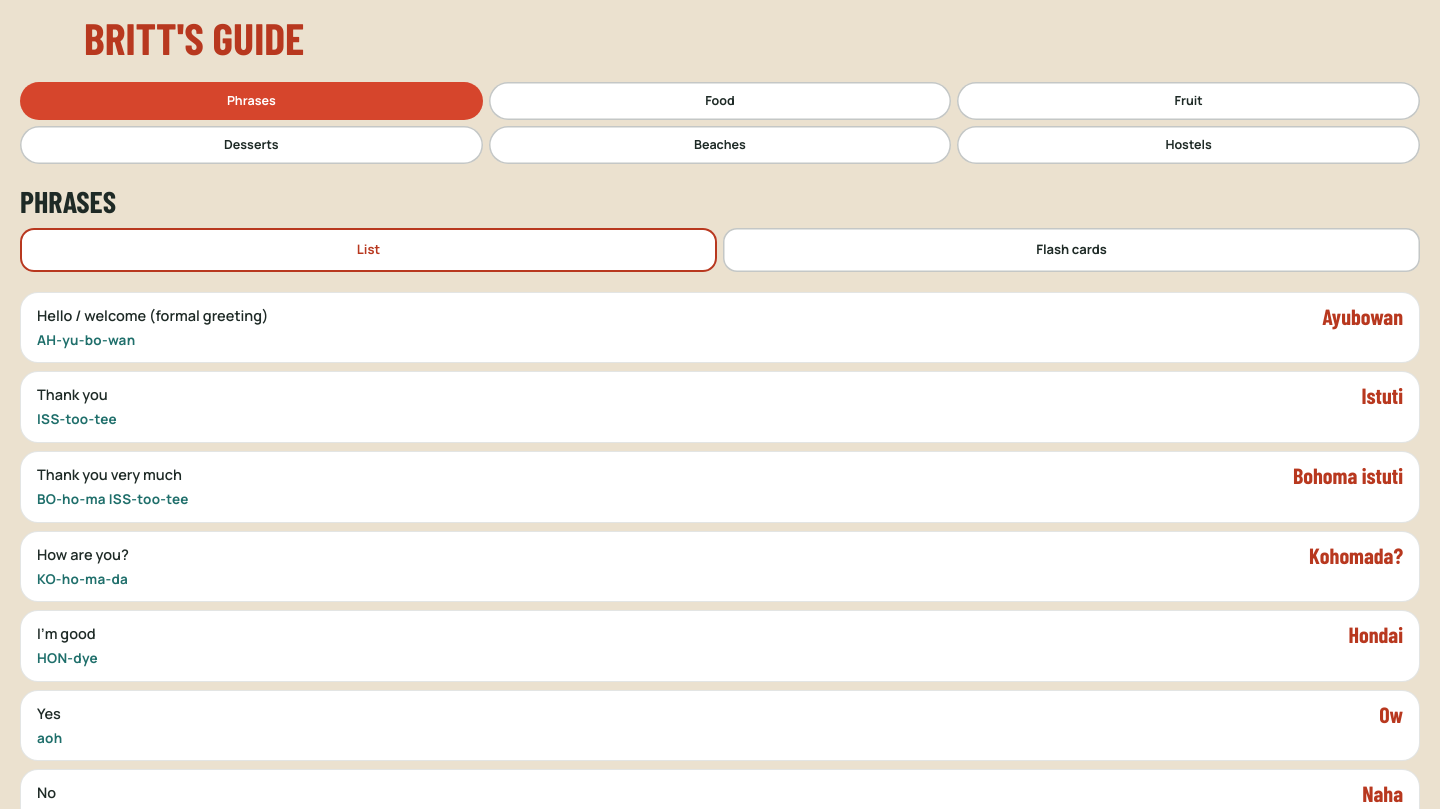
Test case: Guide Hostels section › adds a Hostels tab and shows only that section when picked
Click the button "Hostels" at (1189, 145), box [957, 126, 1420, 164]
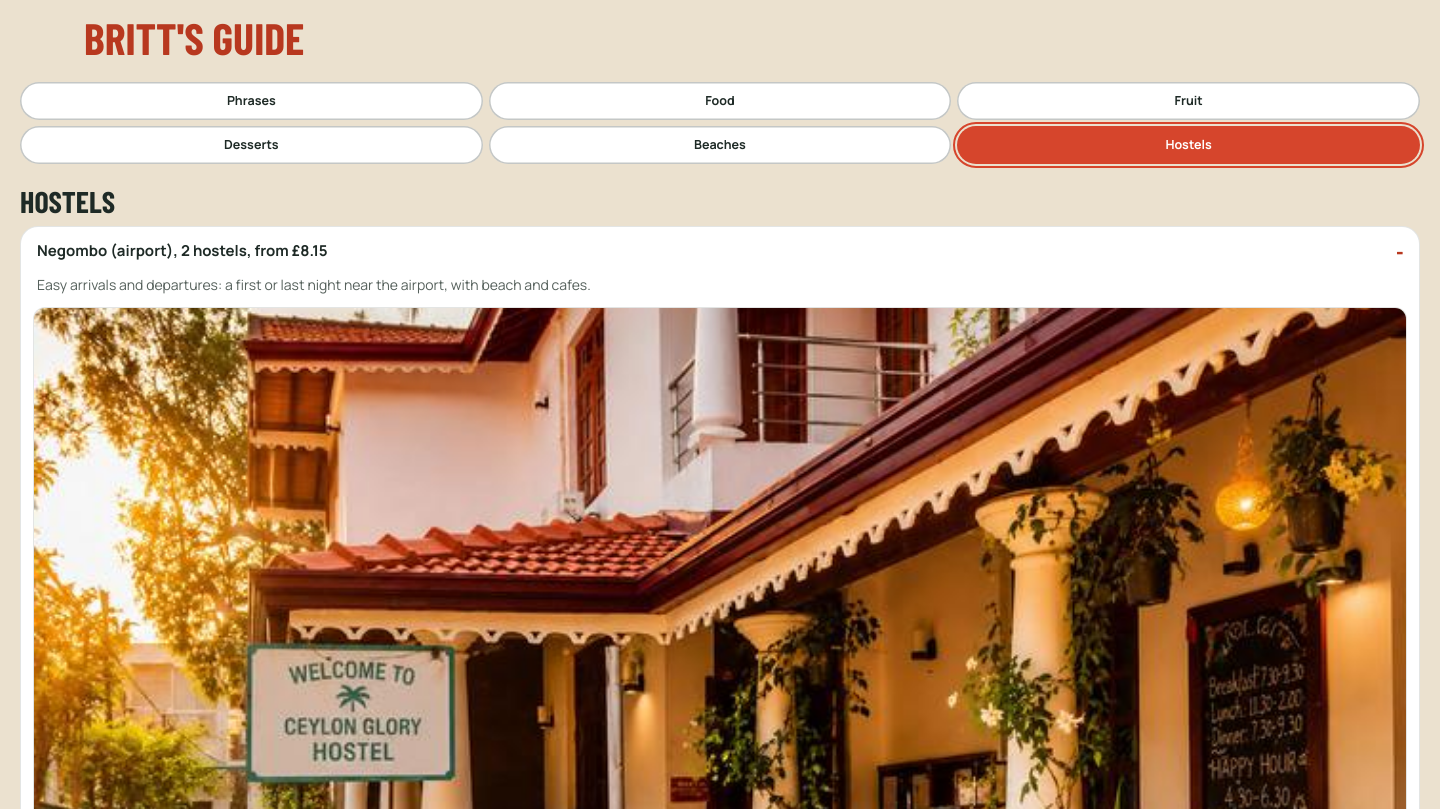
Expected: the heading "Hostels" is shown, [20, 183, 115, 219]
